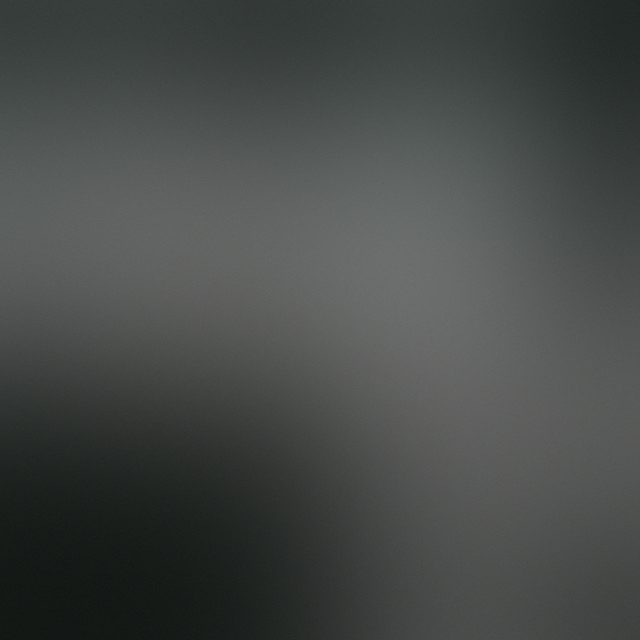smoke: (110, 145, 498, 533)
